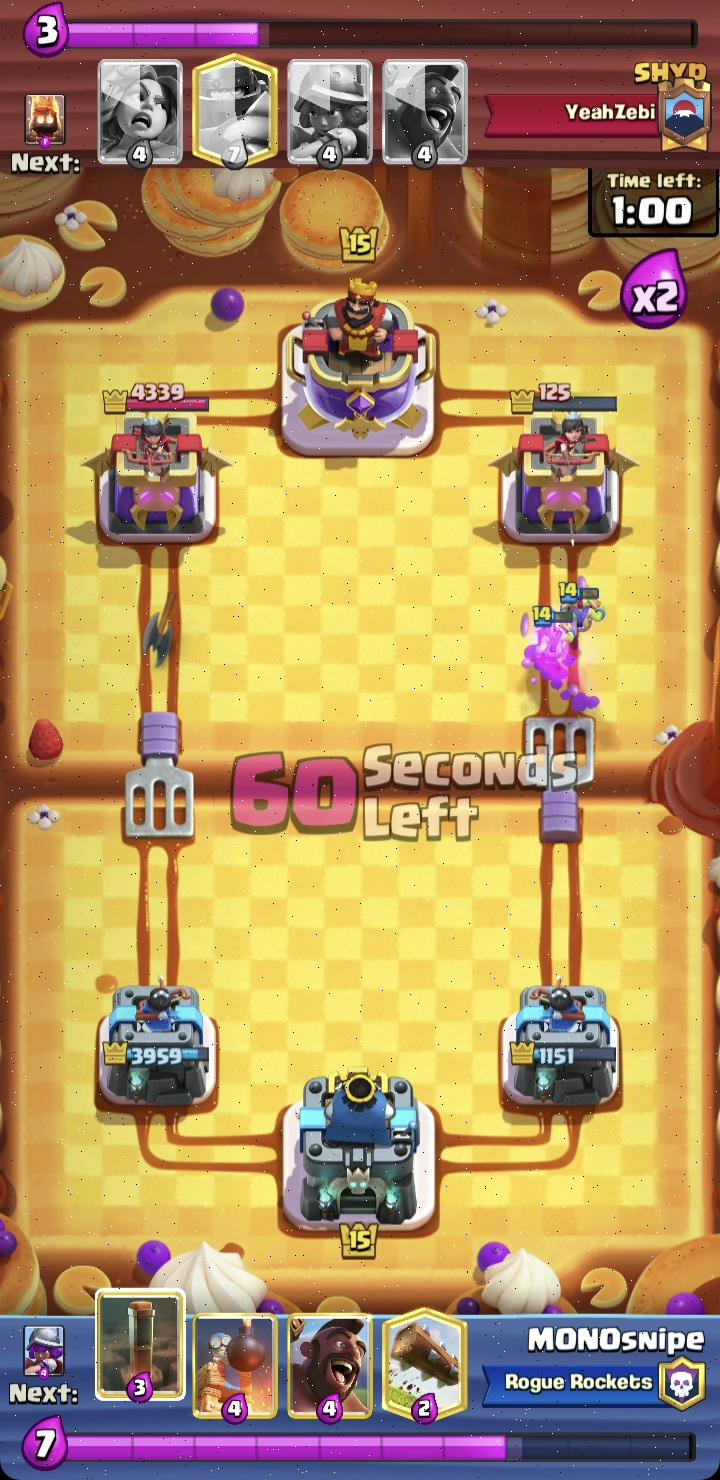EKingTower: (282, 280, 436, 457)
EnemyPrincessTower: (100, 399, 228, 545), (501, 387, 618, 546)
OGoblin: (558, 577, 604, 634), (533, 603, 577, 656)
OwnKingTower: (283, 1070, 435, 1230)
OwnPrincessTower: (99, 984, 215, 1107), (501, 986, 618, 1107)
